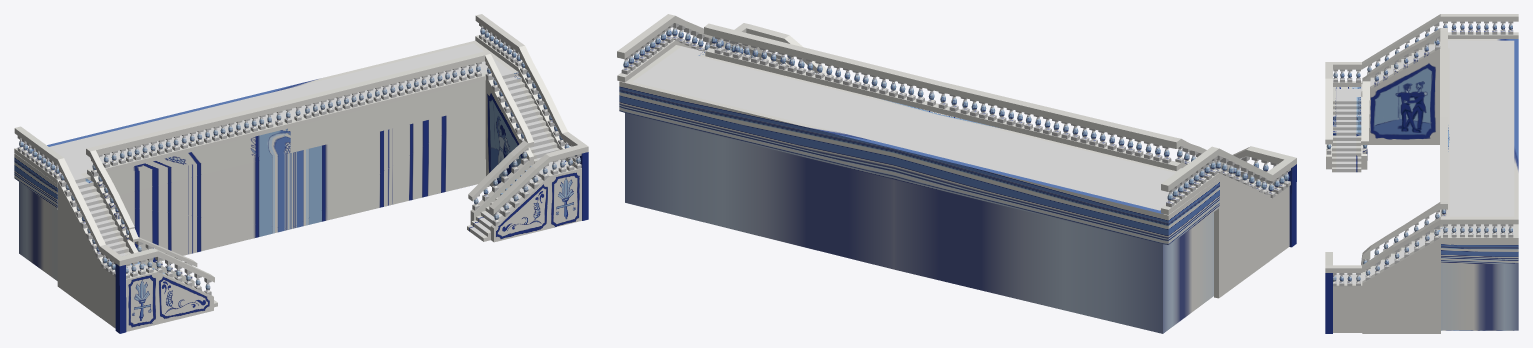
Rendered from textura.escadanormal.fbx.
3 views of the same model, side by side, from view 1: azimuth 30°, elevation 25°; view 2: azimuth 150°, elevation 25°; view 3: azimuth 270°, elevation 25° (orthographic). The views are drawn at different scales.
Parts seen in each view (by area): view 1: Escadas; view 2: Escadas; view 3: Escadas.
Part boxes in pixels (x1,y1,x2,y2): Escadas: (14, 14, 588, 333); Escadas: (617, 14, 1296, 333); Escadas: (1325, 14, 1518, 333).
Size of the model in its own units: 2877 by 750 by 1139.
